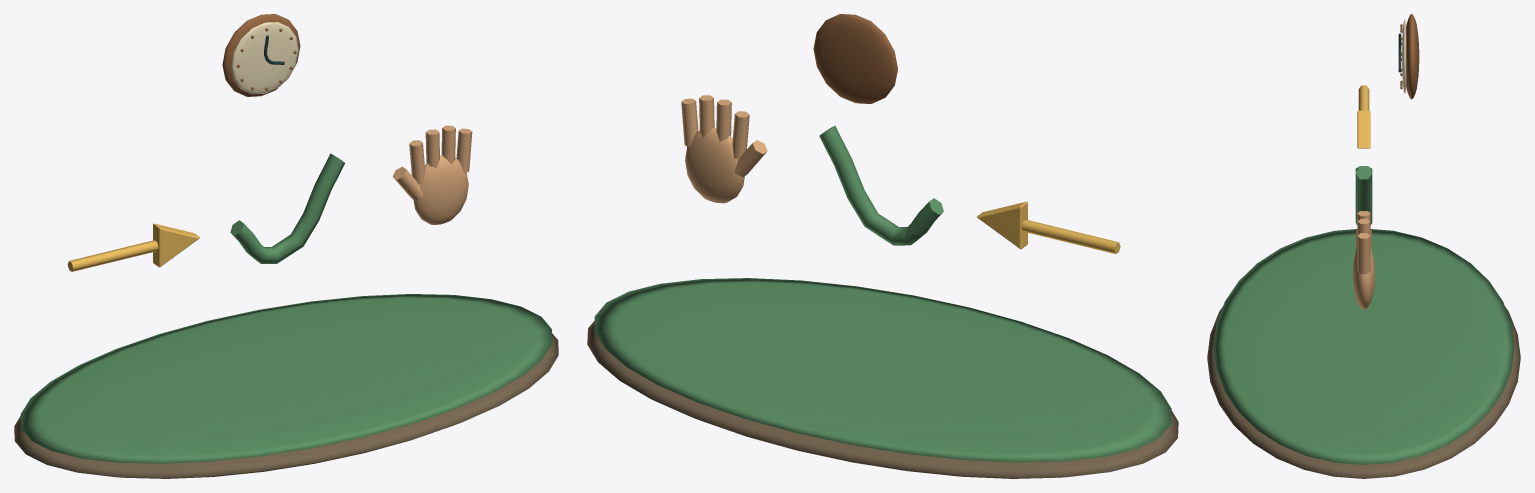
Rendered from complete-third-arrival-gets-to-reach.glb.
The picture shows the model from 3 angles, left to right: view 1: azimuth 30°, elevation 25°; view 2: azimuth 150°, elevation 25°; view 3: azimuth 270°, elevation 25°; orthographic projection. The views are drawn at different scales.
Parts seen in each view (by area): view 1: complete-third-arrival-gets-to-reach_surface_01, complete-third-arrival-gets-to-reach_surface_00, complete-third-arrival-gets-to-reach_surface_03, complete-third-arrival-gets-to-reach_surface_05, complete-third-arrival-gets-to-reach_surface_02, complete-third-arrival-gets-to-reach_surface_04; view 2: complete-third-arrival-gets-to-reach_surface_01, complete-third-arrival-gets-to-reach_surface_00, complete-third-arrival-gets-to-reach_surface_03, complete-third-arrival-gets-to-reach_surface_04, complete-third-arrival-gets-to-reach_surface_02; view 3: complete-third-arrival-gets-to-reach_surface_01, complete-third-arrival-gets-to-reach_surface_00, complete-third-arrival-gets-to-reach_surface_03, complete-third-arrival-gets-to-reach_surface_04, complete-third-arrival-gets-to-reach_surface_02.
Boxes of the visible parts, x1=… form: complete-third-arrival-gets-to-reach_surface_01: x1=20, y1=153, x2=552, y2=463; complete-third-arrival-gets-to-reach_surface_00: x1=14, y1=333, x2=558, y2=478; complete-third-arrival-gets-to-reach_surface_03: x1=392, y1=125, x2=472, y2=224; complete-third-arrival-gets-to-reach_surface_05: x1=231, y1=22, x2=298, y2=94; complete-third-arrival-gets-to-reach_surface_02: x1=67, y1=223, x2=199, y2=271; complete-third-arrival-gets-to-reach_surface_04: x1=222, y1=14, x2=300, y2=96; complete-third-arrival-gets-to-reach_surface_01: x1=594, y1=125, x2=1171, y2=462; complete-third-arrival-gets-to-reach_surface_00: x1=587, y1=321, x2=1178, y2=478; complete-third-arrival-gets-to-reach_surface_03: x1=681, y1=95, x2=767, y2=203; complete-third-arrival-gets-to-reach_surface_04: x1=813, y1=14, x2=897, y2=103; complete-third-arrival-gets-to-reach_surface_02: x1=977, y1=201, x2=1120, y2=253; complete-third-arrival-gets-to-reach_surface_01: x1=1213, y1=166, x2=1514, y2=464; complete-third-arrival-gets-to-reach_surface_00: x1=1207, y1=307, x2=1520, y2=478; complete-third-arrival-gets-to-reach_surface_03: x1=1352, y1=211, x2=1375, y2=309; complete-third-arrival-gets-to-reach_surface_04: x1=1400, y1=14, x2=1419, y2=99; complete-third-arrival-gets-to-reach_surface_02: x1=1357, y1=85, x2=1370, y2=148.
Size of the model in its own units: 4.56 by 3.12 by 2.5.
